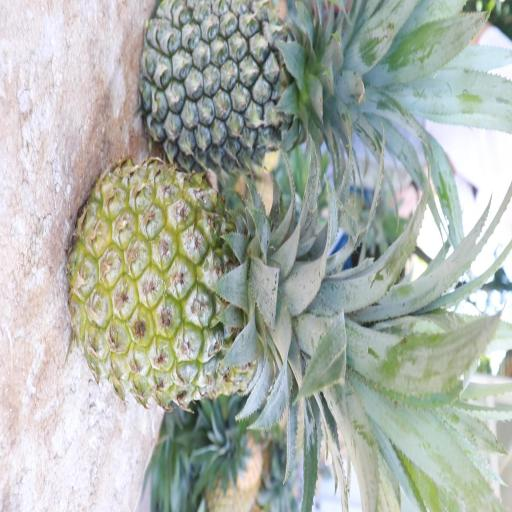------------------------------: (62, 153, 357, 422)
